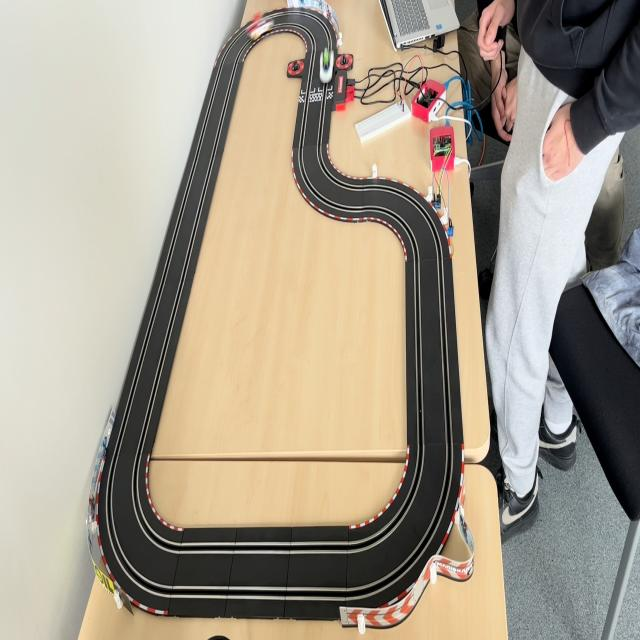mario: (242, 15, 275, 41)
yoshi: (319, 50, 334, 86)
